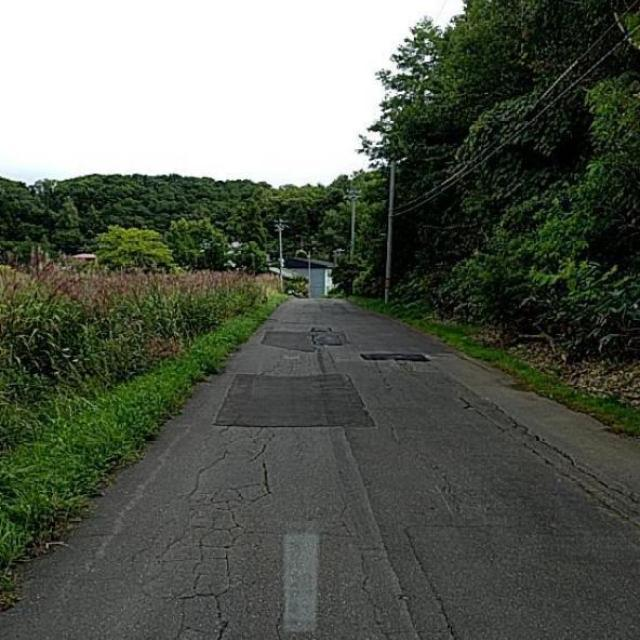Sambungan: (213, 371, 376, 429), (261, 329, 315, 353)
